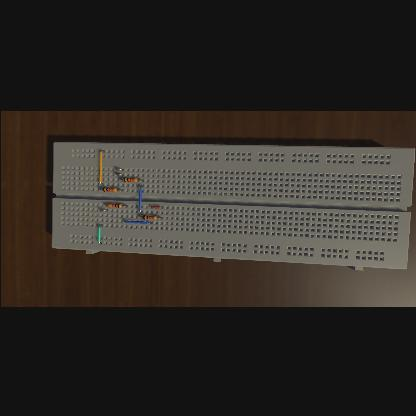breadboard: (52, 140, 414, 270)
resistor: (142, 214, 156, 218), (107, 202, 121, 206), (102, 186, 116, 190), (122, 176, 136, 180)
wire: (99, 148, 103, 184), (138, 184, 142, 212), (124, 219, 150, 223), (97, 224, 101, 242), (150, 205, 162, 207), (100, 208, 107, 210), (115, 172, 122, 174), (116, 188, 122, 190), (136, 178, 142, 180), (156, 216, 161, 217), (120, 178, 122, 180), (139, 216, 141, 217), (100, 188, 100, 188), (115, 168, 122, 168)
